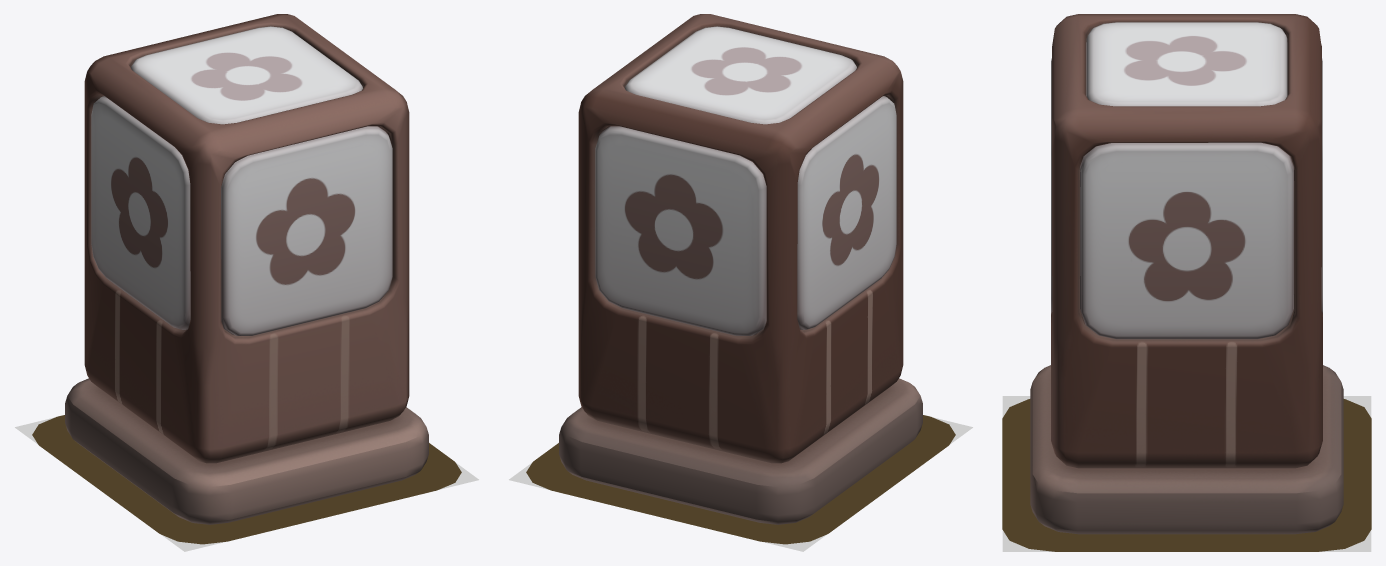
File: JP_Light.fbx
3 views of the same model, side by side, from view 1: azimuth 30°, elevation 25°; view 2: azimuth 150°, elevation 25°; view 3: azimuth 270°, elevation 25° (orthographic). The views are drawn at different scales.
Parts seen in each view (by area): view 1: polySurface2, Shadow, Light_Grid; view 2: polySurface2, Shadow, Light_Grid; view 3: polySurface2, Shadow, Light_Grid.
Part boxes in pixels (left/top/right/bottom): polySurface2: left=65, top=14, right=428, bottom=524; Shadow: left=32, top=415, right=461, bottom=544; Light_Grid: left=15, top=417, right=478, bottom=551; polySurface2: left=559, top=14, right=922, bottom=524; Shadow: left=526, top=415, right=955, bottom=544; Light_Grid: left=509, top=417, right=972, bottom=551; polySurface2: left=1030, top=14, right=1343, bottom=534; Shadow: left=1002, top=399, right=1371, bottom=551; Light_Grid: left=1002, top=396, right=1371, bottom=551.
Bounding box in the file's own units: 1 × 1.23 × 1.
